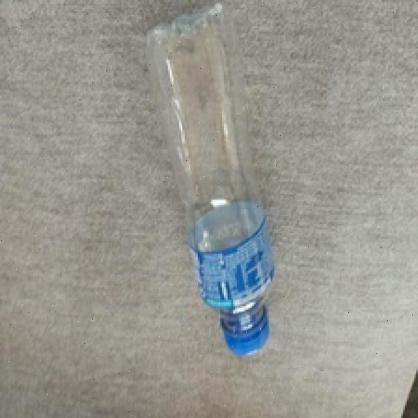bottle: (144, 0, 275, 359)
cap: (214, 318, 269, 356)
label: (184, 234, 277, 312)
